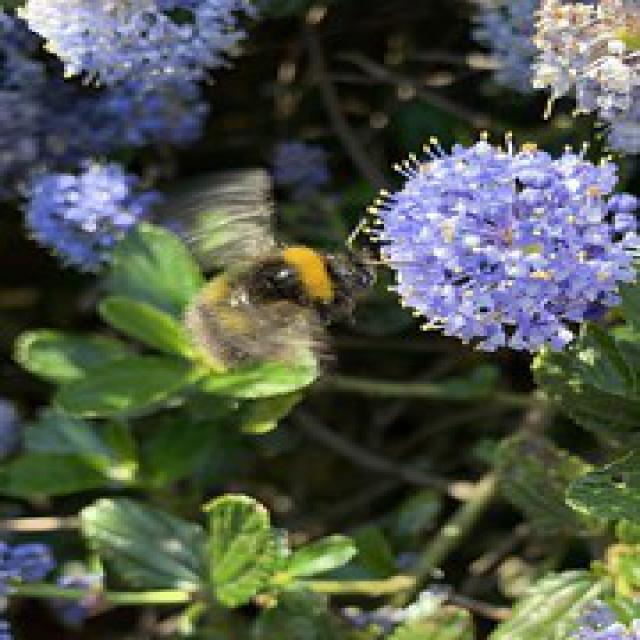Abeille: (196, 226, 390, 331)
